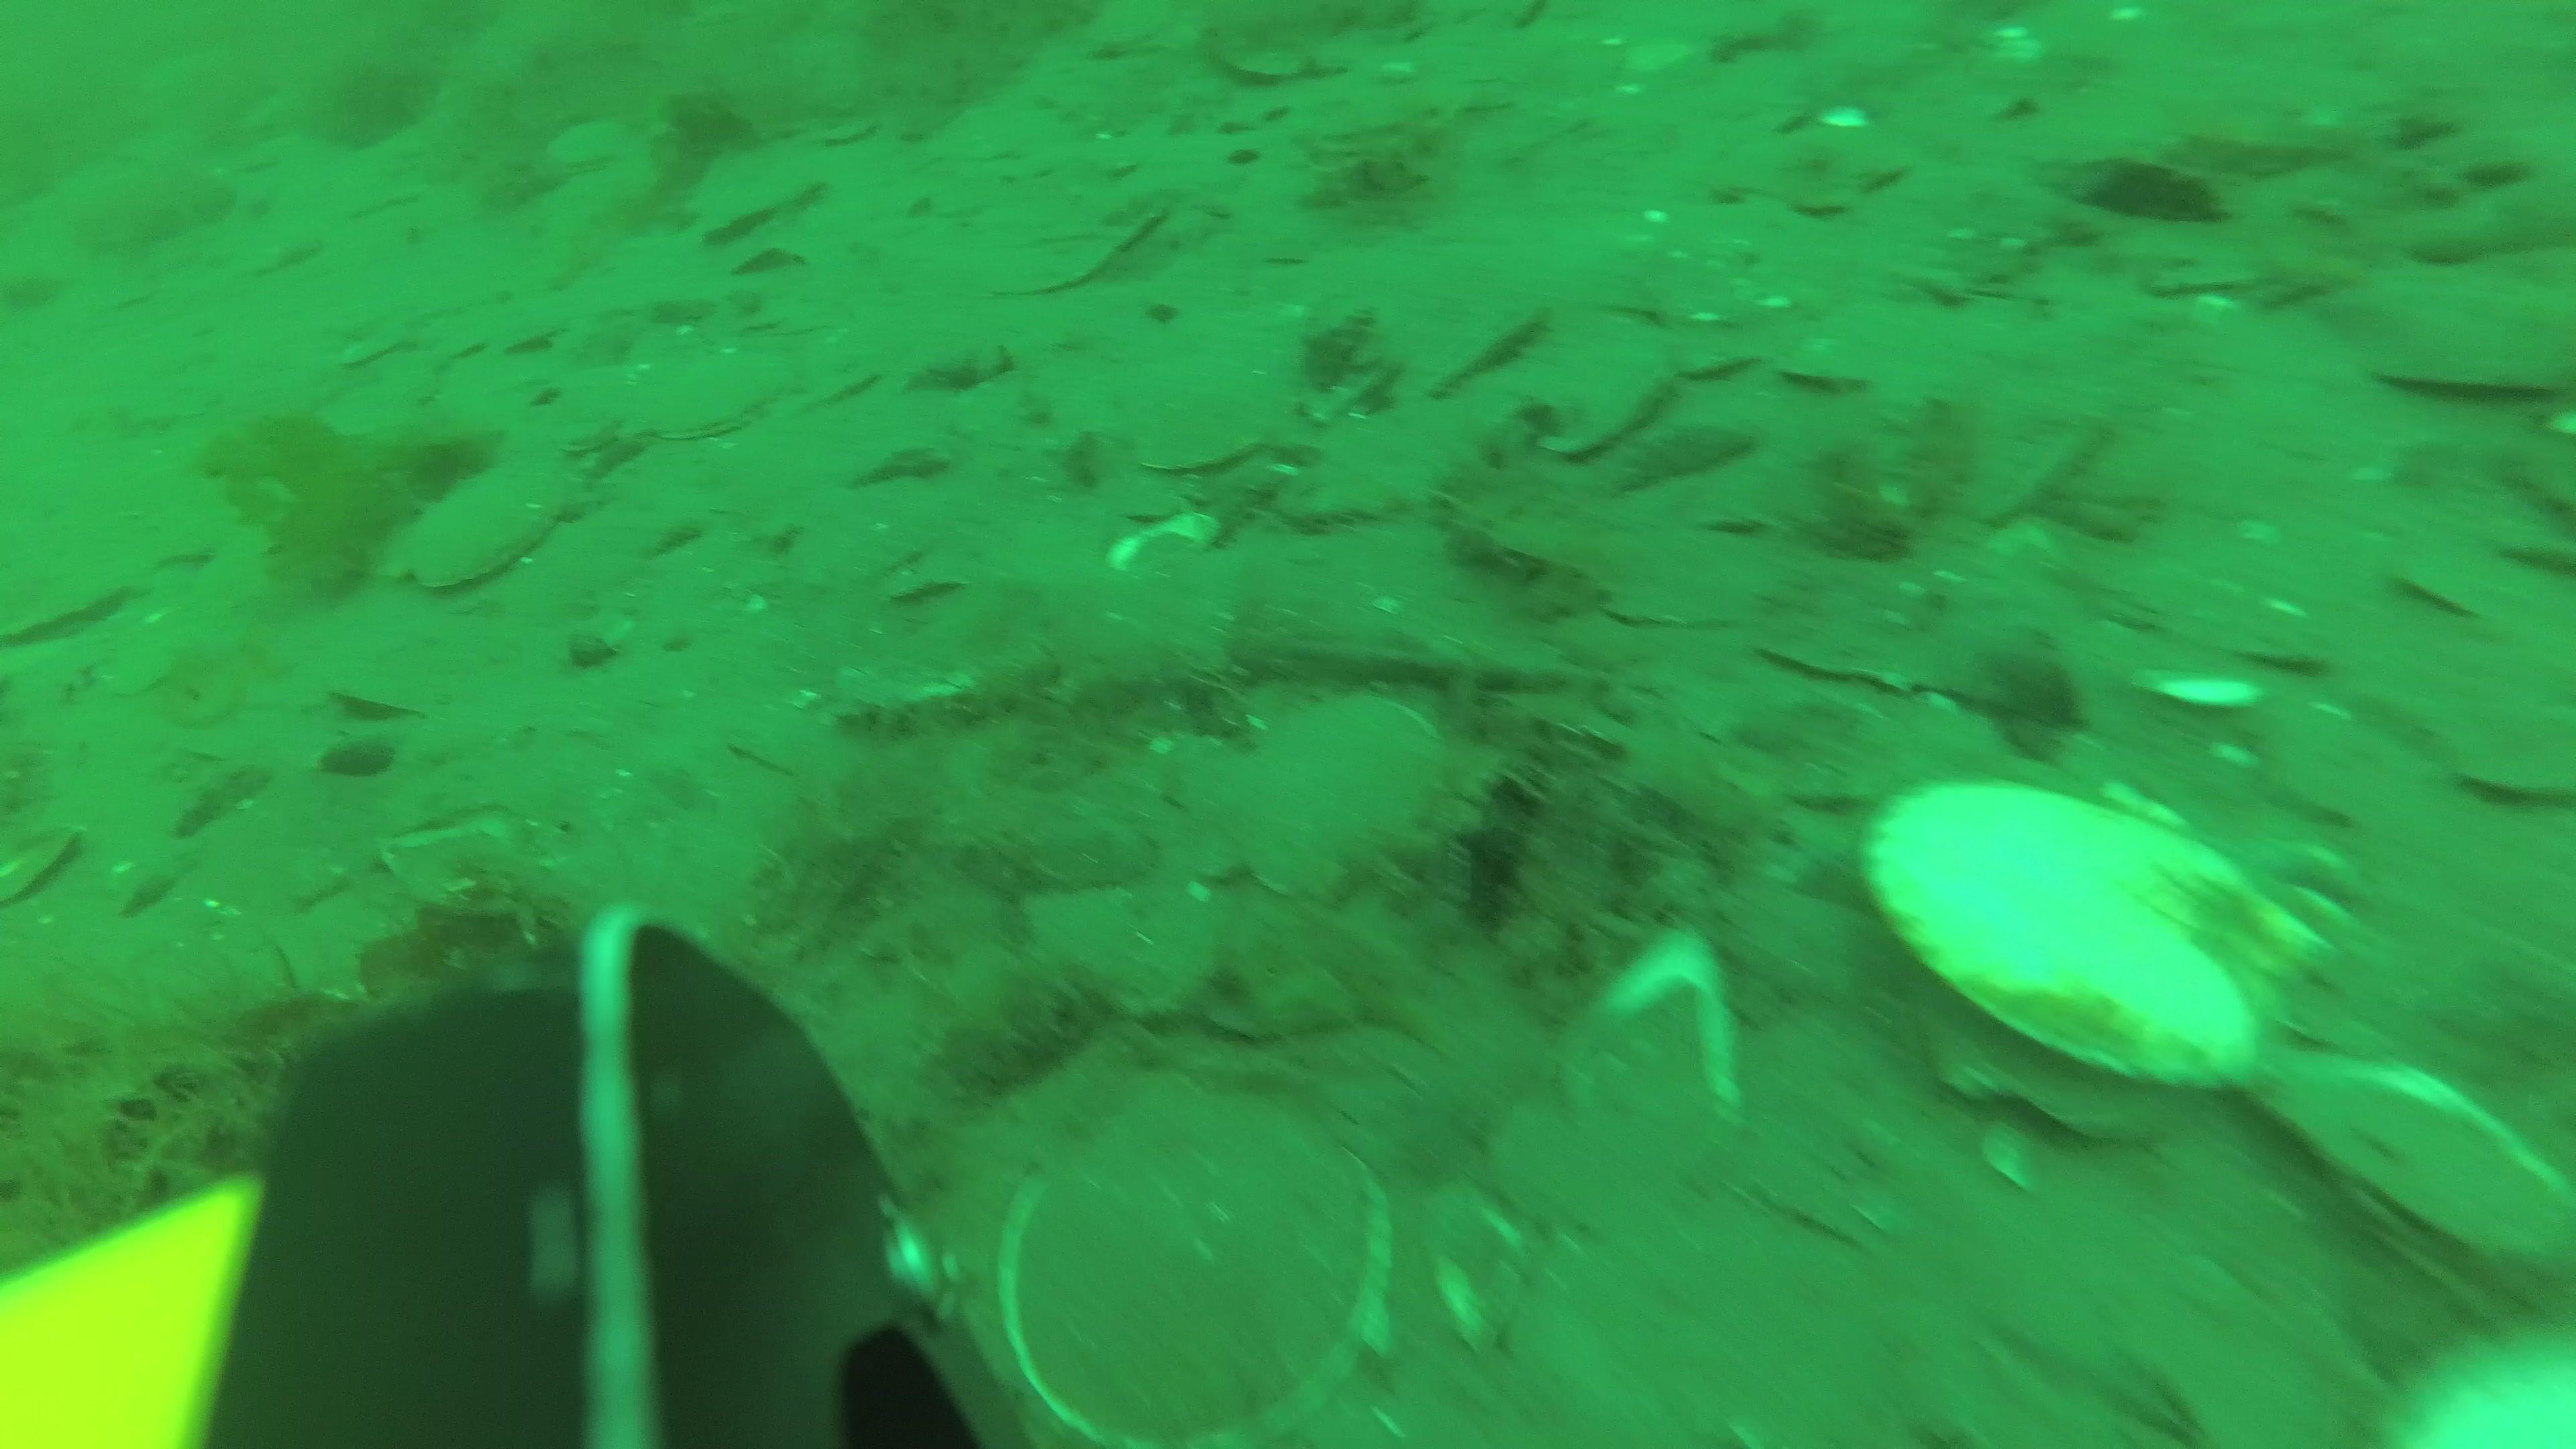scallop: (1865, 761, 2337, 1148), (2231, 1053, 2572, 1307), (1205, 683, 1438, 904), (2335, 241, 2576, 416), (1123, 318, 1315, 464), (393, 465, 594, 589), (1514, 329, 1679, 464), (1382, 278, 1539, 405), (621, 361, 809, 455), (695, 156, 833, 241), (1782, 329, 1875, 405), (548, 113, 639, 186), (1679, 329, 1755, 389), (547, 418, 603, 458)
